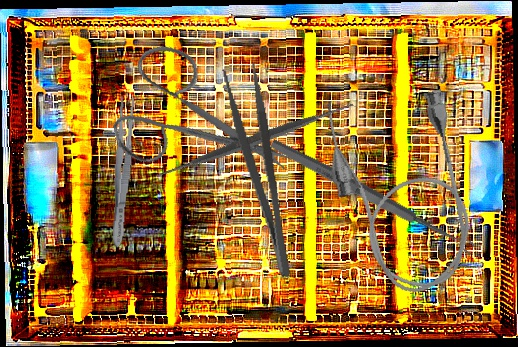Cannula: (314, 74, 488, 306)
Dressing Forceps: (220, 61, 296, 282), (107, 94, 138, 249)
Iris Scissors: (97, 22, 296, 209)
Spatula Surgical: (147, 31, 363, 250)
Surgical Spoon: (268, 136, 477, 257)
